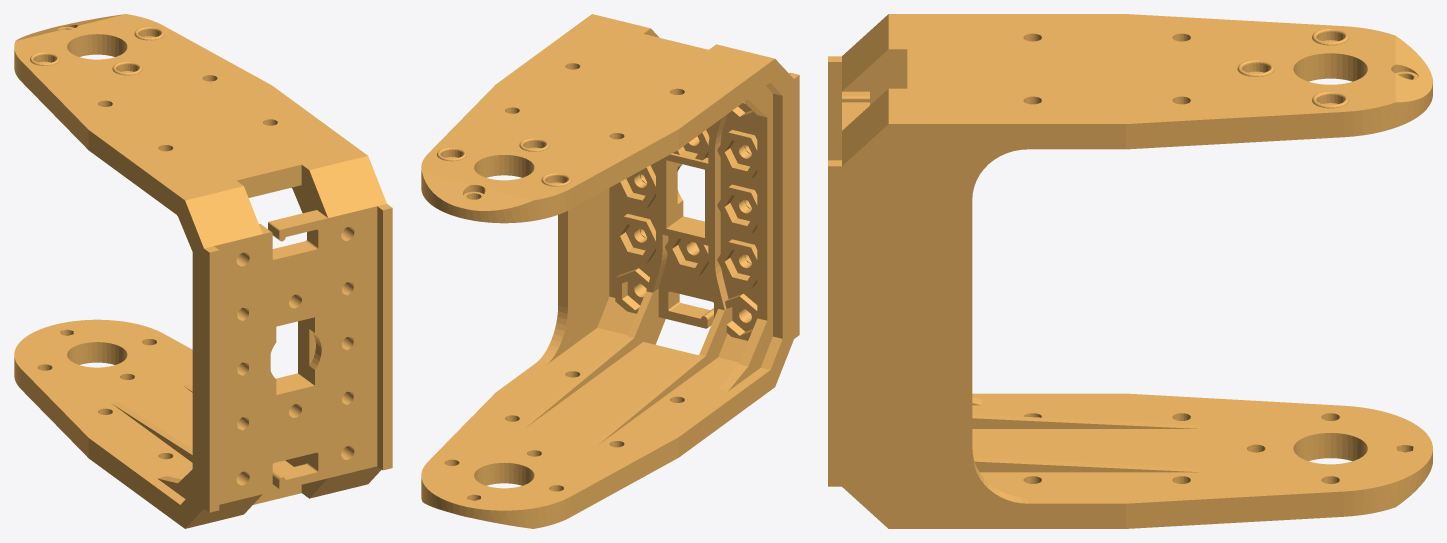
3 renders of one model, left to right at view 1: azimuth 30°, elevation 25°; view 2: azimuth 150°, elevation 25°; view 3: azimuth 270°, elevation 25°, orthographic. The views are drawn at different scales.
Visible parts, largest first — view 1: mesh_1_F4; view 2: mesh_1_F4; view 3: mesh_1_F4.
Boxes of the visible parts, x1,y1,x2,y2 form: mesh_1_F4: [14, 14, 392, 528]; mesh_1_F4: [421, 14, 799, 528]; mesh_1_F4: [828, 14, 1432, 528].
Size of the model in its own units: 0.028 by 0.065 by 0.0485.
